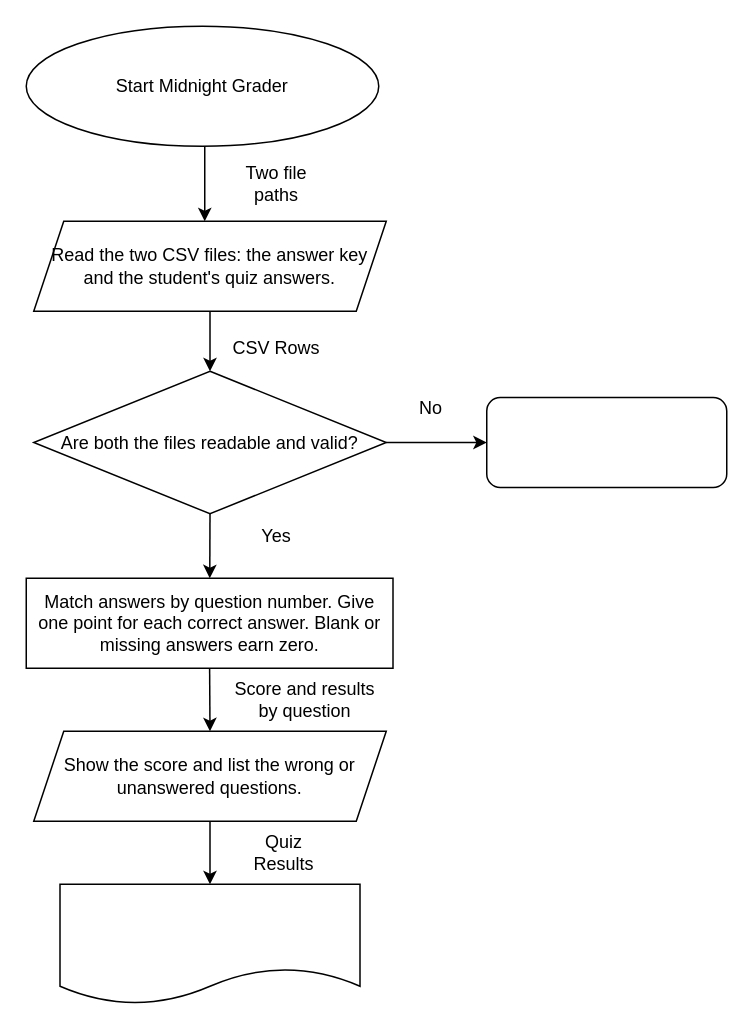
The diagram is 753 pixels wide and 1031 high, and some of its shapes have lost their labels. The box of each missing label's shape, as (x1, y1, x2, y2) in pixels:
Save the results to results.csv: (58, 883, 360, 1004)
Show which file has a problem and stop.: (485, 396, 727, 488)
